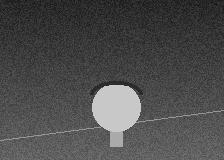no_helmet: (92, 81, 140, 136)
